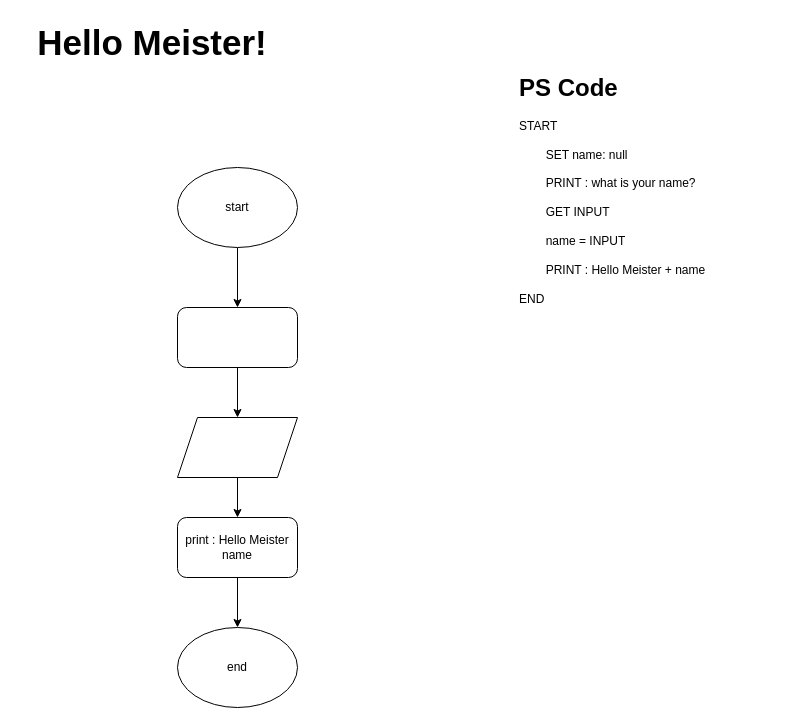
The diagram is 804 pixels wide and 725 high, and some of its shapes have lost their labels. The shapes that lost their labels are listed below. From the top down, each one's centre as x and y in pixels, then its label:
point 237,337: Print: What is your name?
point 237,447: input : name
